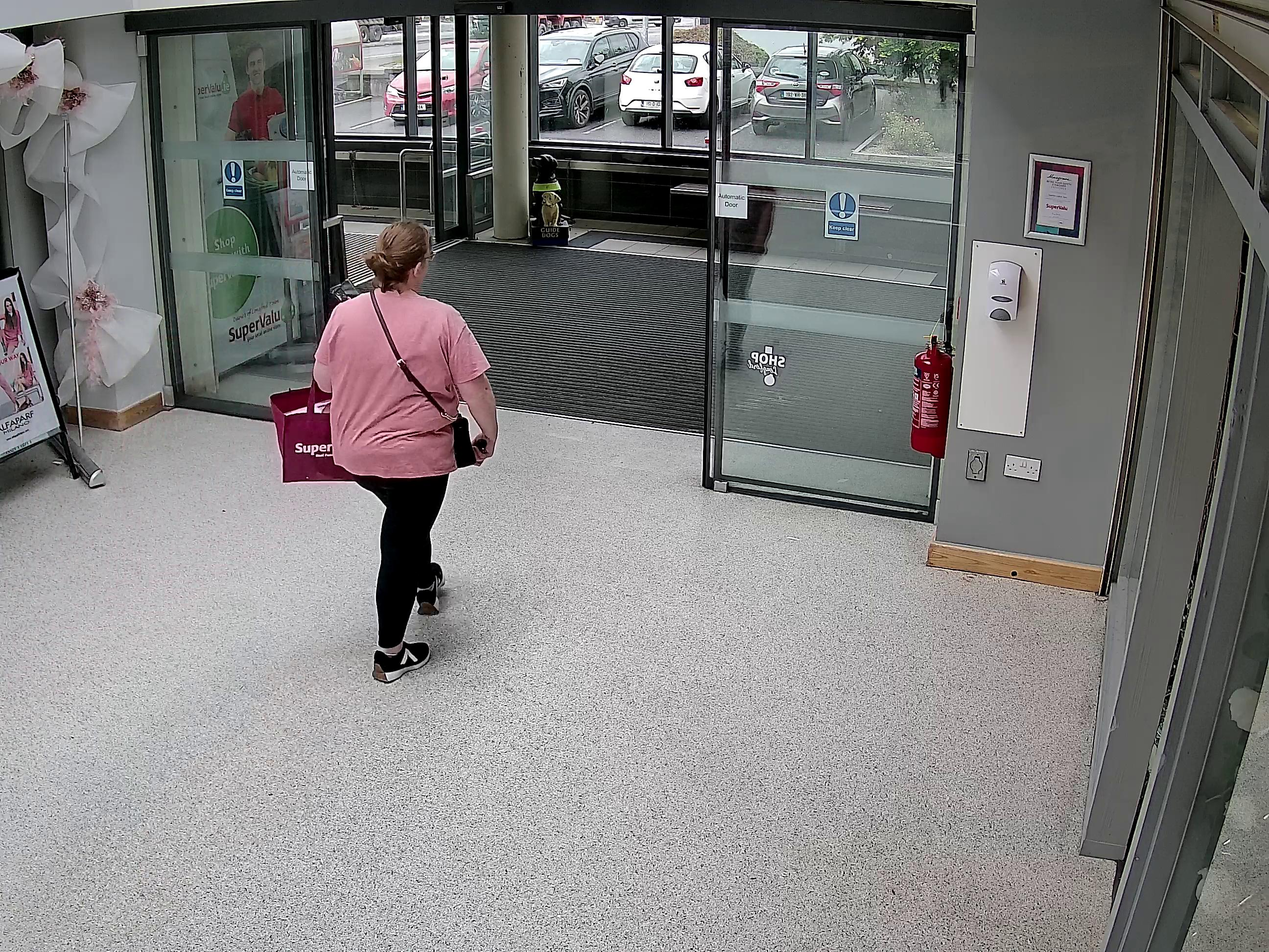backpack-or-handbag: (445, 411, 476, 470)
filled-shopping-bags: (270, 387, 353, 486)
person: (314, 219, 498, 683)
person-with-backpack-handbag-and-shopping-bag-s-: (271, 219, 497, 684)
